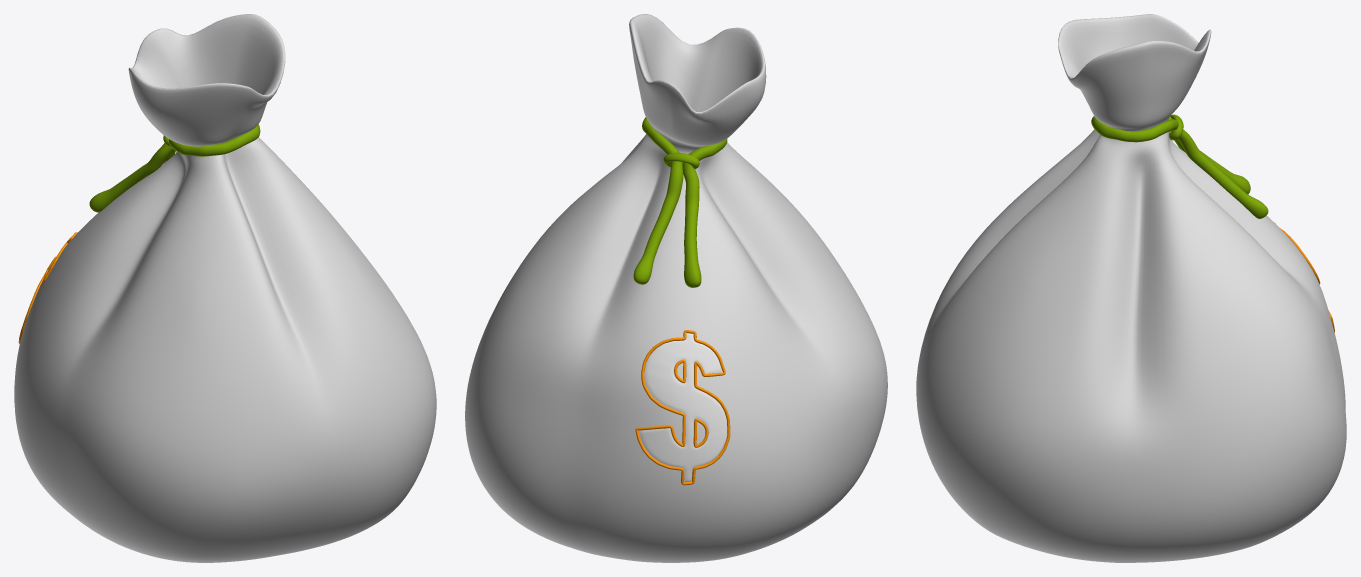
The model's file is MoneyPack.fbx.
3 renders of one model, left to right at view 1: azimuth 30°, elevation 25°; view 2: azimuth 150°, elevation 25°; view 3: azimuth 270°, elevation 25°, orthographic.
Visible parts, largest first — view 1: Bag, rope; view 2: Bag, S, rope, S.001; view 3: Bag, rope.
Boxes of the visible parts, x1,y1,x2,y2 form: Bag: (14,14,436,562); rope: (89,124,260,212); Bag: (465,14,887,562); S: (640,333,727,481); rope: (633,117,727,287); S.001: (635,330,730,485); Bag: (916,14,1346,562); rope: (1091,114,1268,218).
Bounding box in the file's own units: 343 × 476 × 373.
